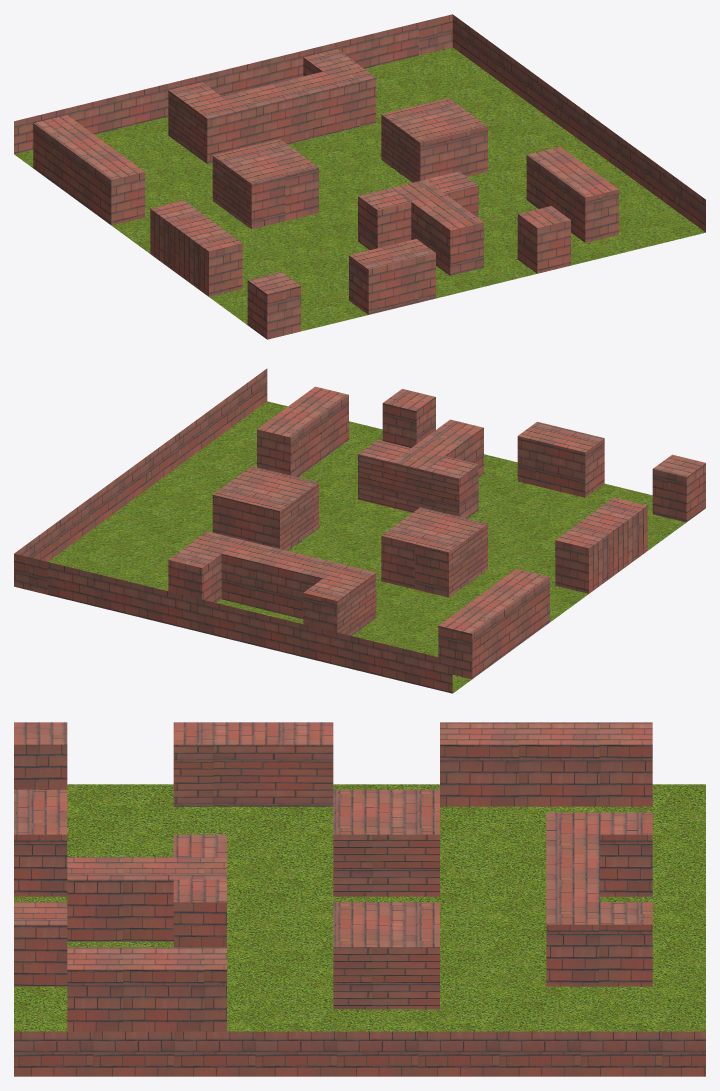
Rendered from Tanah4.fbx.
The picture shows the model from 3 angles, top to bottom: view 1: azimuth 30°, elevation 25°; view 2: azimuth 150°, elevation 25°; view 3: azimuth 270°, elevation 25°; orthographic projection. The views are drawn at different scales.
Parts seen in each view (by area): view 1: Plane.001, Plane; view 2: Plane.001, Plane; view 3: Plane.001, Plane.
Boxes of the visible parts, x1,y1,x2,y2 form: Plane.001: (14, 14, 705, 339); Plane: (14, 47, 705, 331); Plane.001: (14, 368, 705, 693); Plane: (48, 401, 685, 693); Plane.001: (14, 722, 705, 1076); Plane: (14, 784, 705, 1031).
Size of the model in its own units: 6283 by 622 by 6283.
2 materials, 2 textured.
